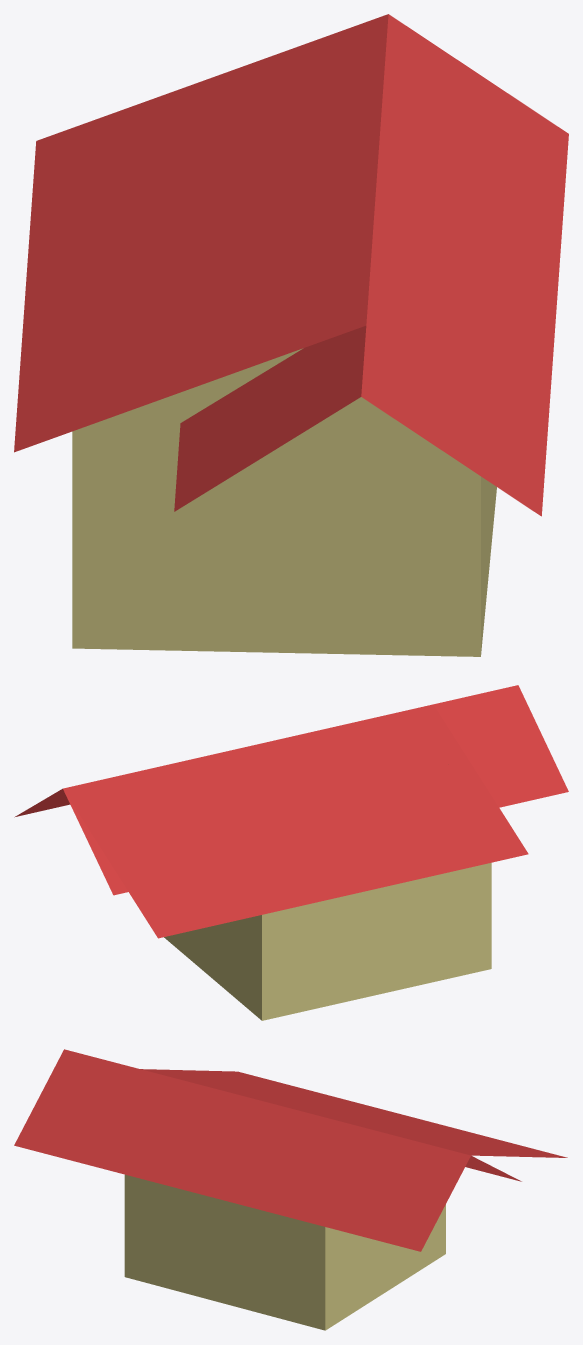
The picture shows the model from 3 angles, top to bottom: view 1: azimuth 30°, elevation 25°; view 2: azimuth 150°, elevation 25°; view 3: azimuth 270°, elevation 25°; orthographic projection. The views are drawn at different scales.
Size of the model in its own units: 18.29 by 22.85 by 8.28.
